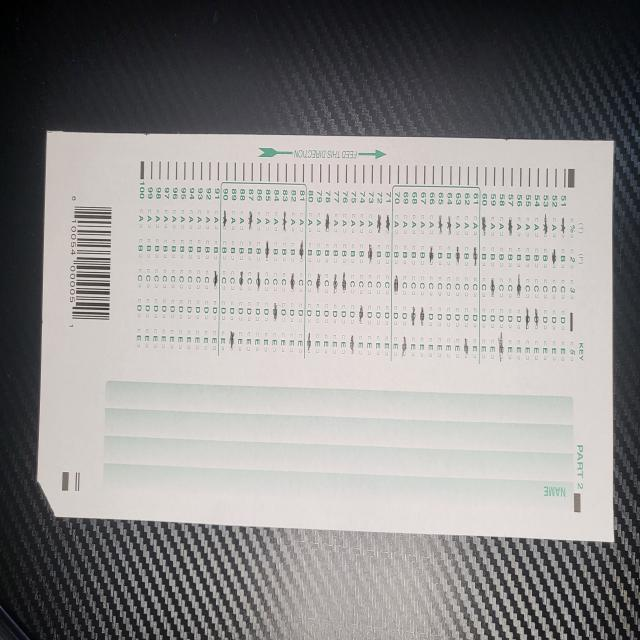scantron_back: (37, 131, 614, 544)
